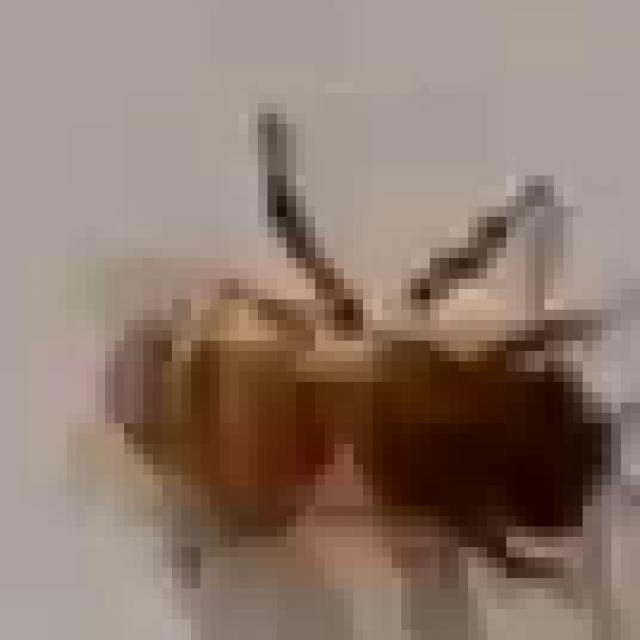honeybee: (130, 165, 601, 572)
